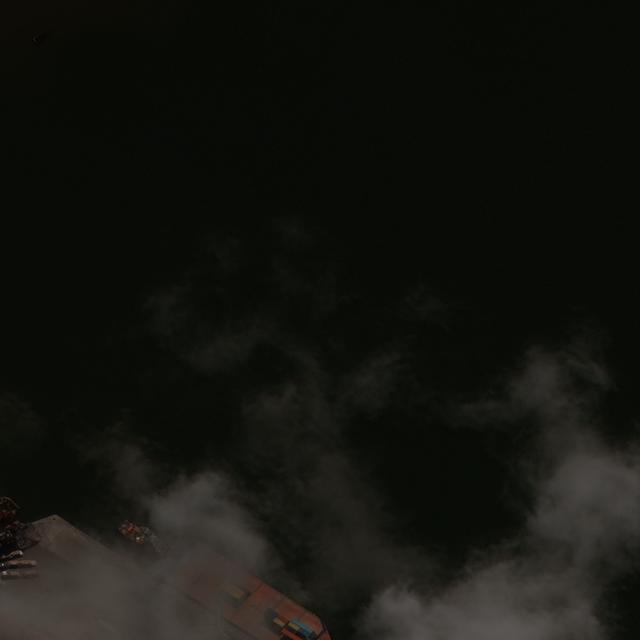Container Ship: (142, 524, 329, 640)
